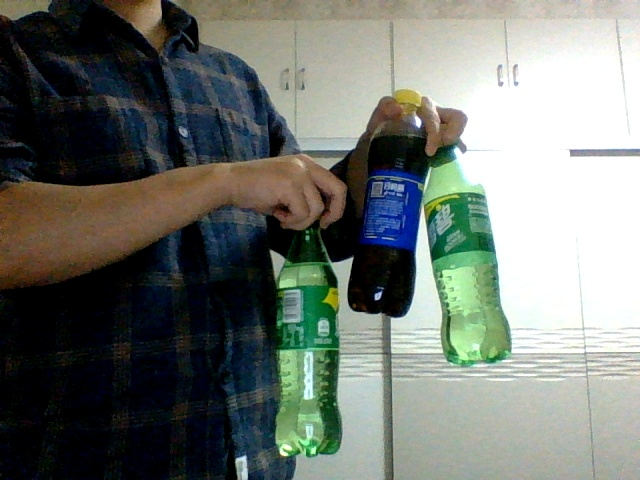Cola: (348, 90, 430, 317)
Sprite: (422, 125, 512, 366), (272, 214, 343, 460)
